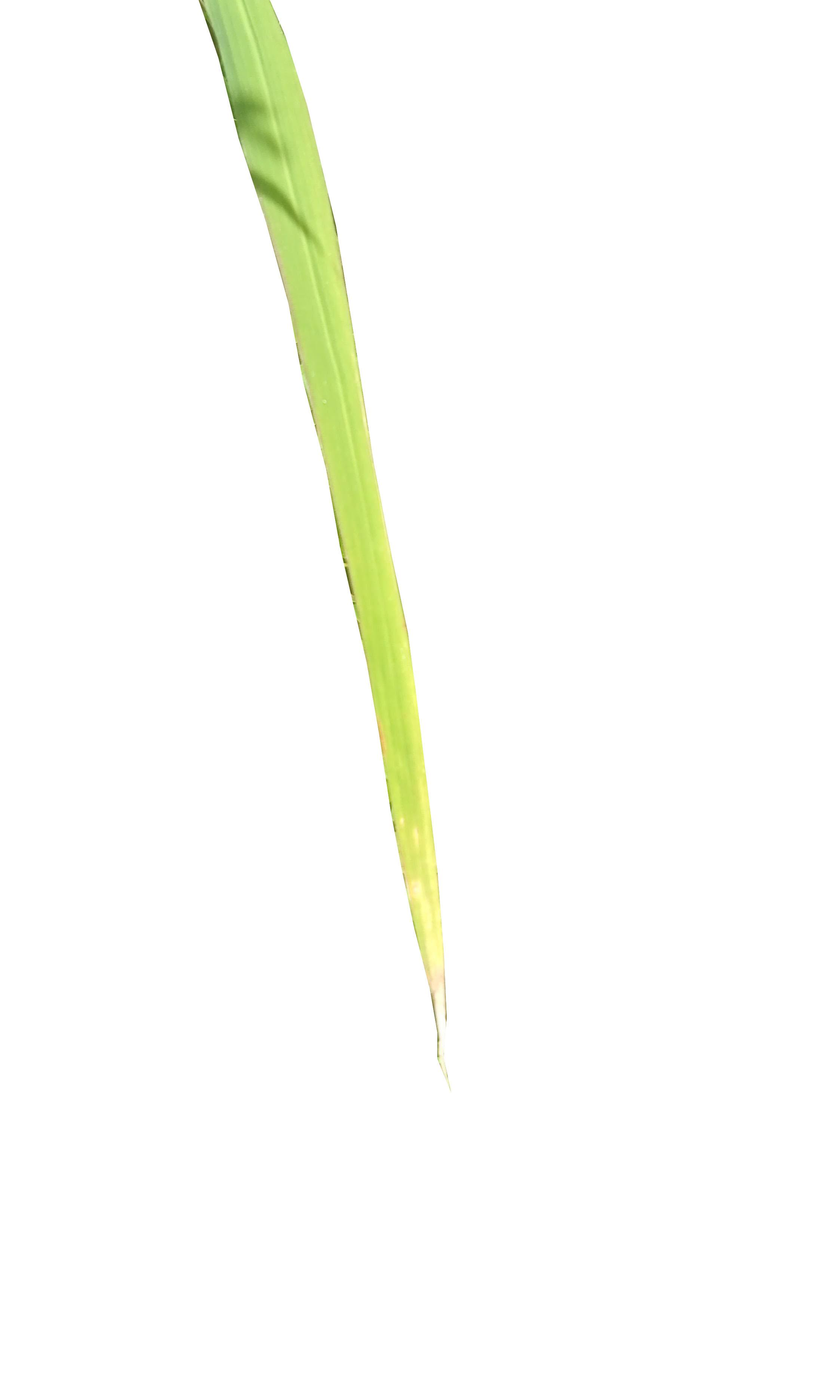Tungro: (195, 0, 453, 1088)
